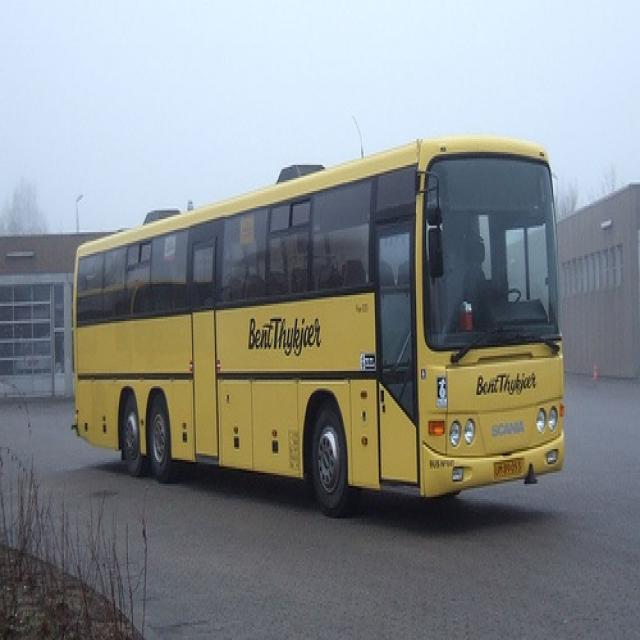bus: (70, 141, 564, 519)
